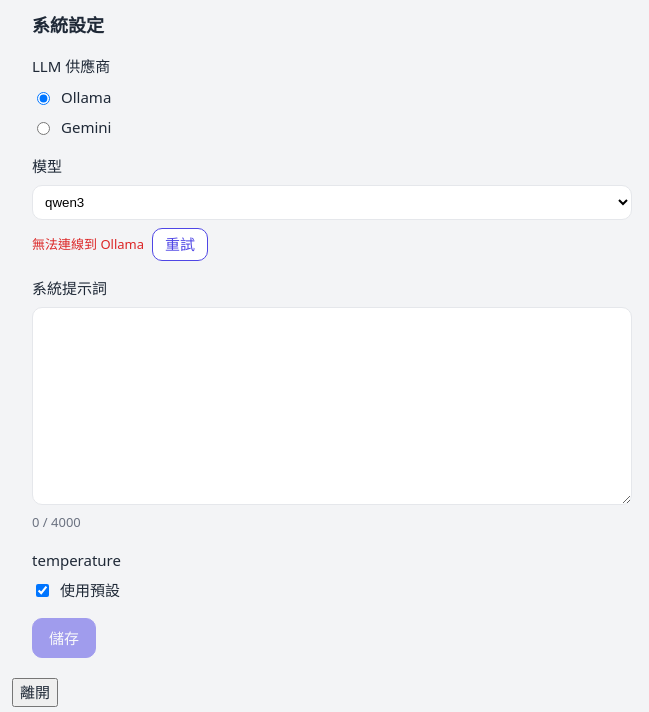
SettingsPage › model list failure shows reason and retry
The width and height of the screenshot is (649, 712).
Expected: the text "無法連線到 Ollama" is shown, [32,234,144,254]
Step 1. Click the button "重試" → (180, 244), box [152,228,208,260]
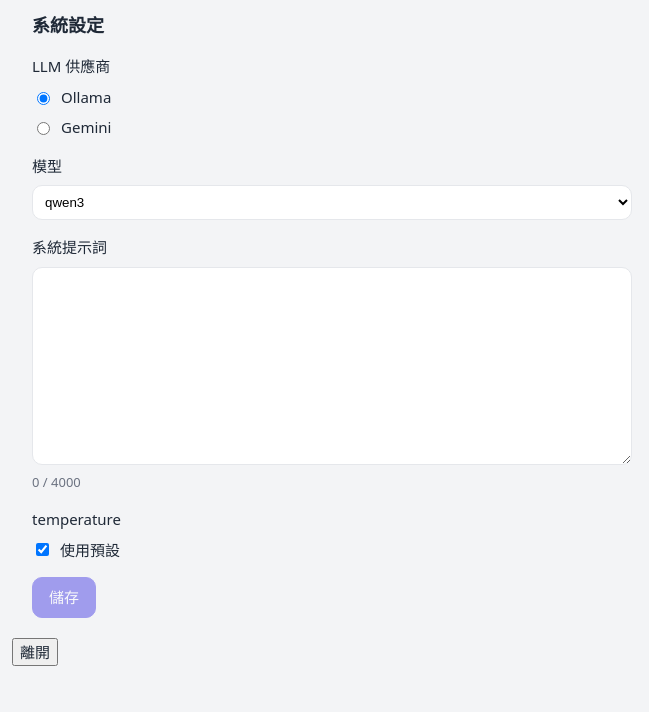
Expected: the text "無法連線到 Ollama" is gone
